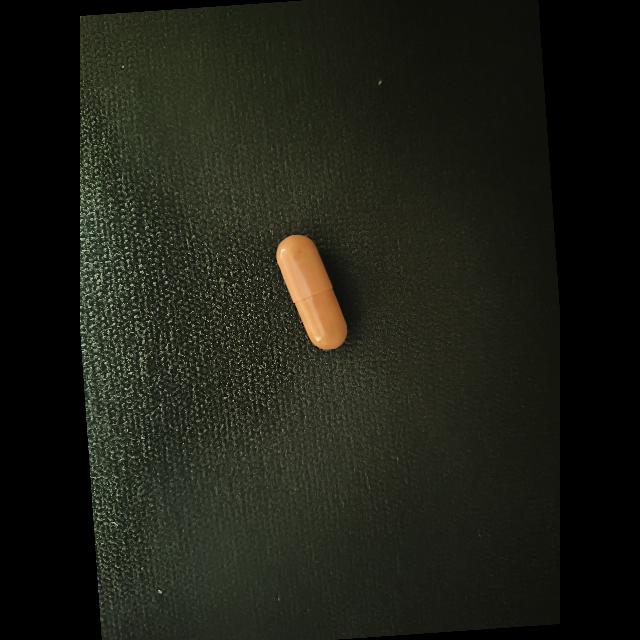Intact Capsule: (276, 235, 347, 350)
